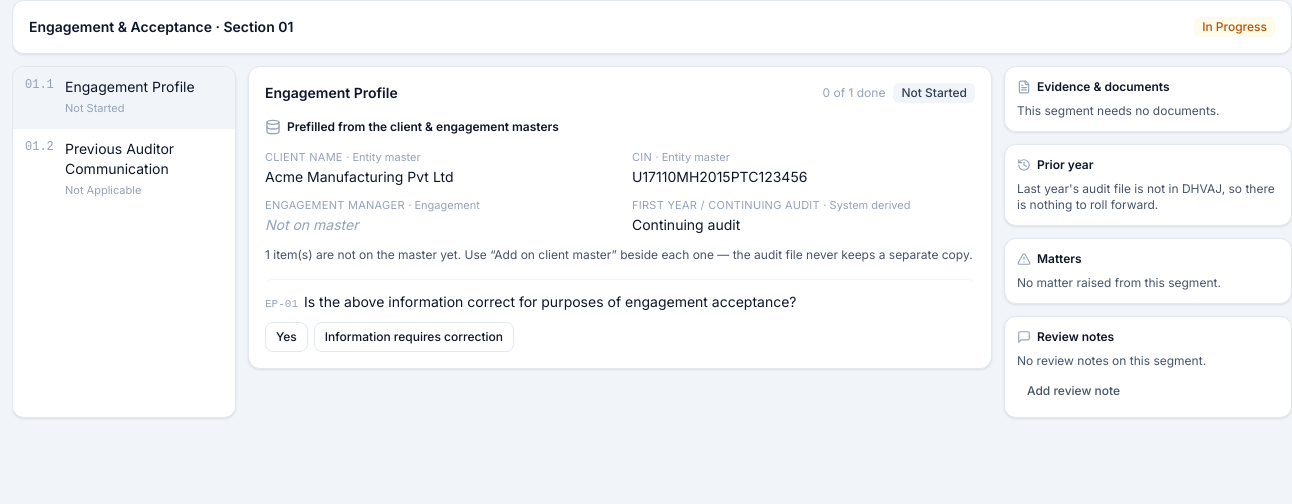
Section 01 acceptance prefill › derives Not Applicable for previous-auditor communication on a continuing audit
Click the button "01.2 Previous Auditor Communication Not Applicable": (124, 170) 13,129 -> 235,210
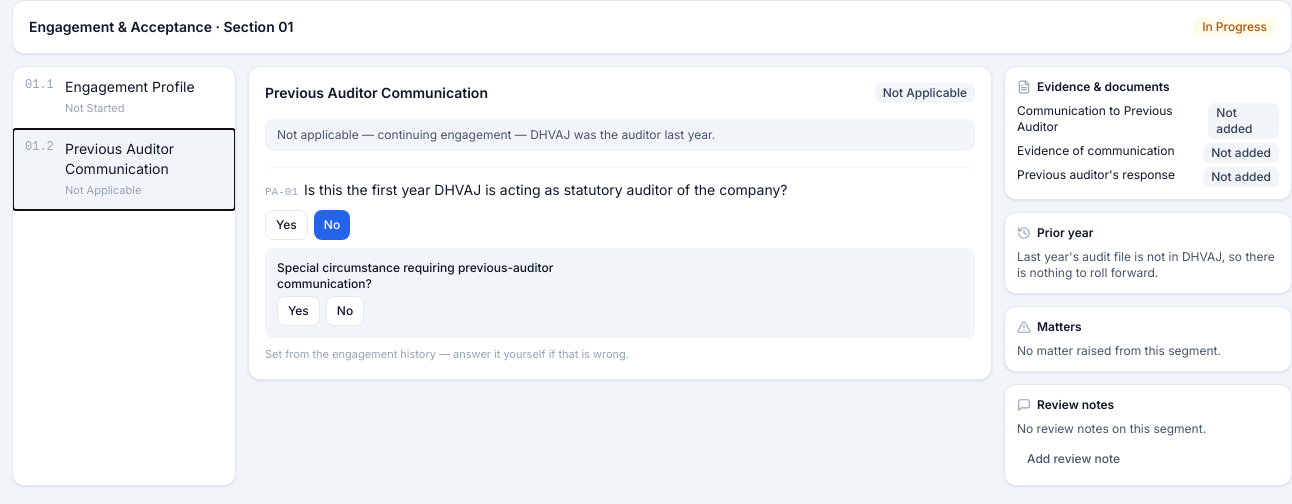
Check: the text "DHVAJ was the auditor last year" is shown, box 378,127 -> 715,142
